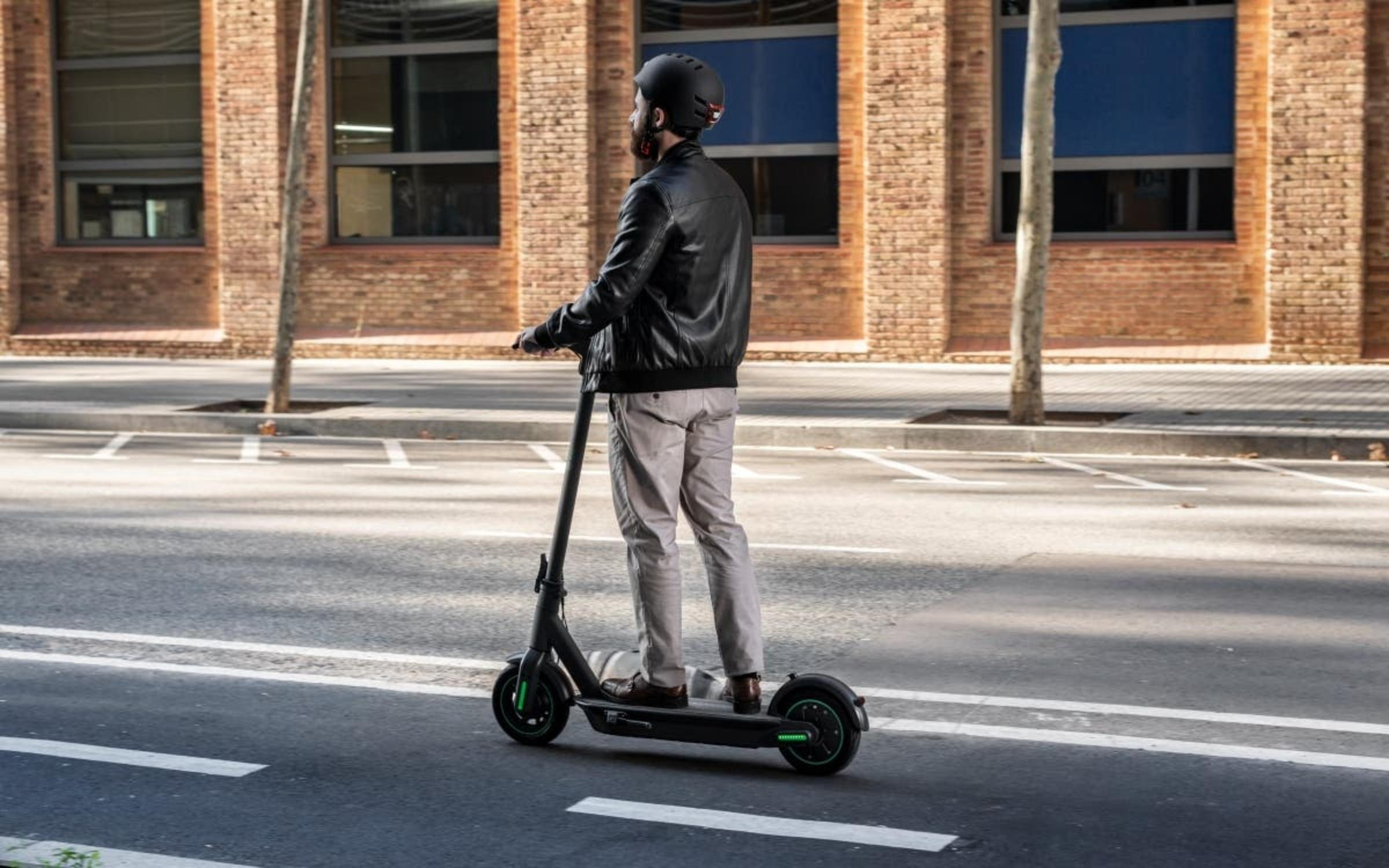helmet: (625, 39, 736, 153)
human: (524, 54, 764, 705)
kickboard: (486, 673, 859, 775)
